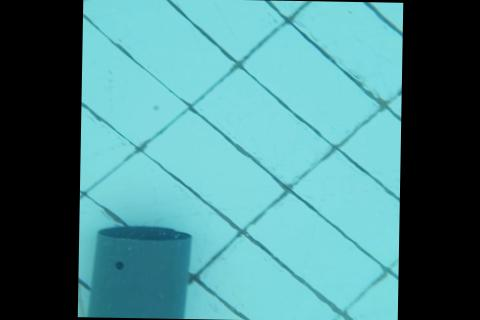kebocoran: (112, 260, 124, 270)
